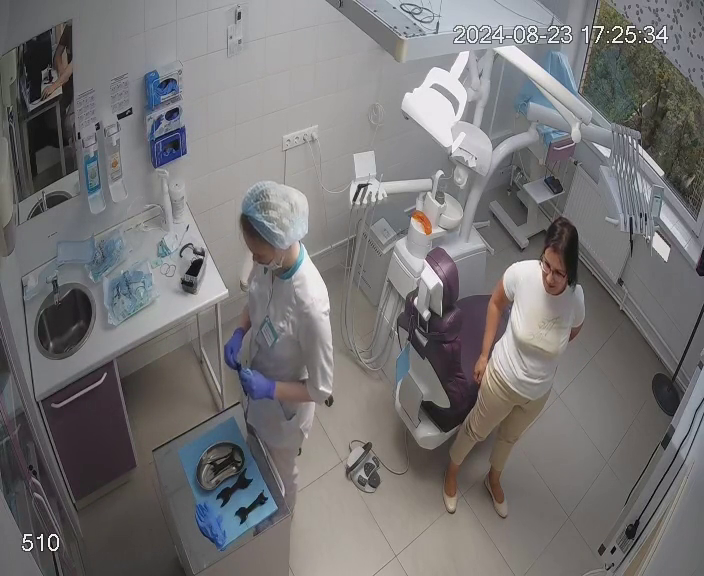Empty: (391, 245, 522, 453)
